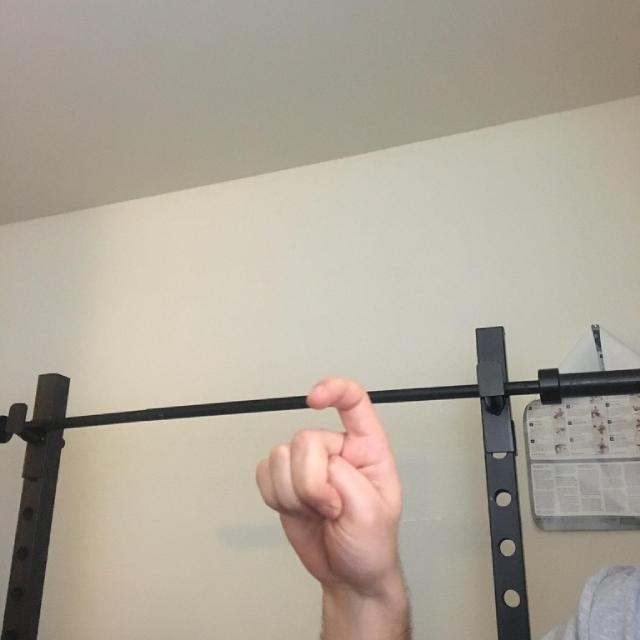X: (237, 350, 453, 600)
